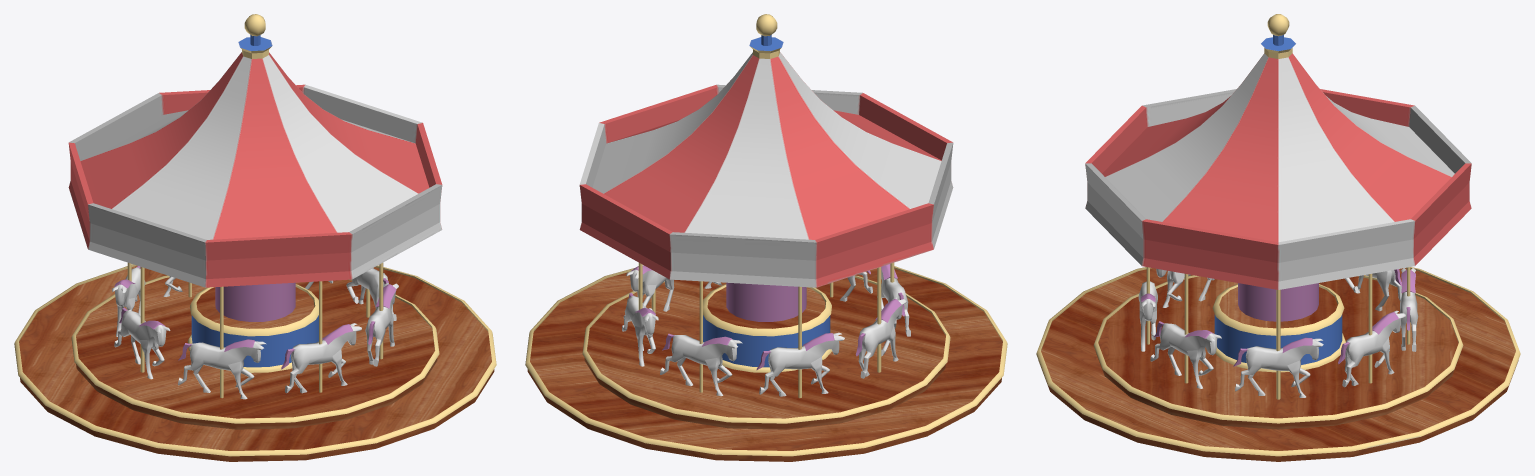
Rendered from carousel.glb.
3 views of the same model, side by side, from view 1: azimuth 30°, elevation 25°; view 2: azimuth 150°, elevation 25°; view 3: azimuth 270°, elevation 25° (orthographic).
Parts seen in each view (by area): view 1: carousel; view 2: carousel; view 3: carousel.
Part boxes in pixels (bbox=[...]): carousel: bbox=[14, 14, 496, 461]; carousel: bbox=[525, 14, 1007, 461]; carousel: bbox=[1036, 14, 1520, 461].
Size of the model in its own units: 0.2422 by 0.1907 by 0.2422.
1 material, 1 textured.
